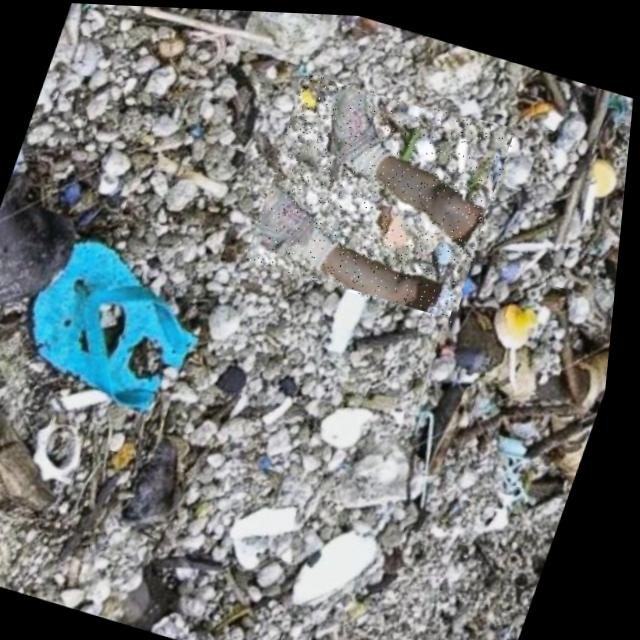Person in Rubble: (241, 65, 522, 319)
